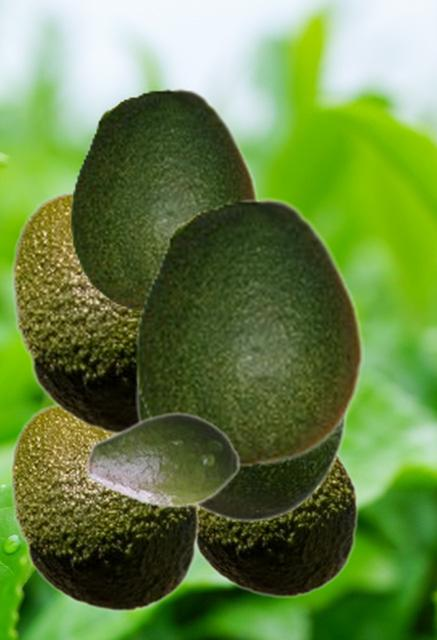avocado: (134, 197, 363, 467), (69, 87, 259, 311), (9, 403, 199, 612), (10, 190, 139, 436), (135, 385, 347, 522), (197, 455, 358, 598), (85, 411, 240, 508)
